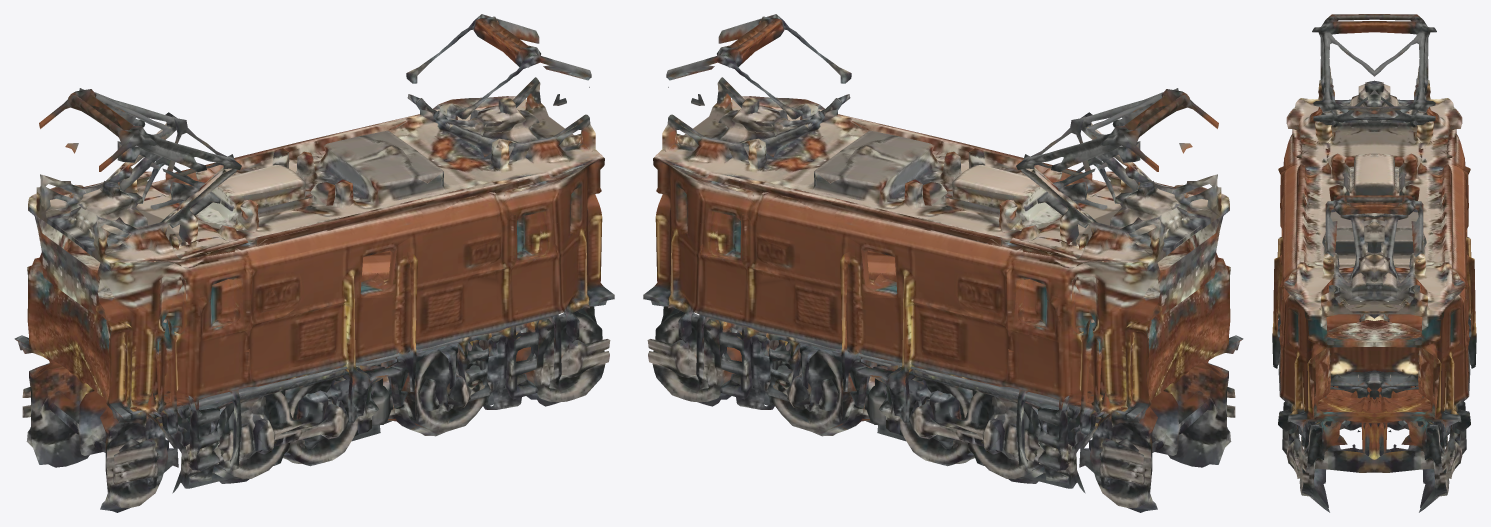
The model's file is crocodile.glb.
The picture shows the model from 3 angles, left to right: view 1: azimuth 30°, elevation 25°; view 2: azimuth 150°, elevation 25°; view 3: azimuth 270°, elevation 25°; orthographic projection. The views are drawn at different scales.
Visible parts, largest first — view 1: cradle, cradle.mirror, engine, engine.mirror; view 2: cradle.mirror, cradle, engine.mirror, engine; view 3: cradle, cradle.mirror, engine, engine.mirror.
Boxes of the visible parts, left/top/right/bottom form: cradle: left=69, top=34, right=614, bottom=512; cradle.mirror: left=14, top=14, right=562, bottom=467; engine: left=150, top=162, right=526, bottom=493; engine.mirror: left=117, top=141, right=181, bottom=448; cradle.mirror: left=643, top=34, right=1188, bottom=512; cradle: left=695, top=14, right=1243, bottom=467; engine.mirror: left=731, top=162, right=1107, bottom=493; engine: left=1076, top=141, right=1140, bottom=448; cradle: left=1272, top=14, right=1374, bottom=512; cradle.mirror: left=1374, top=14, right=1476, bottom=512; engine: left=1313, top=87, right=1374, bottom=427; engine.mirror: left=1374, top=87, right=1435, bottom=427.
Size of the model in its own units: 6.17 by 4.47 by 2.63.
1 material, 1 textured.
